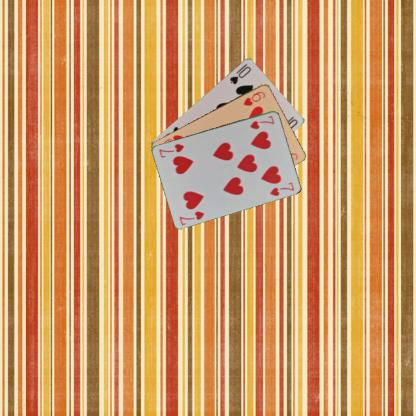10s: (227, 60, 252, 86)
6h: (240, 88, 266, 107)
7h: (176, 208, 206, 226), (247, 113, 276, 130)
